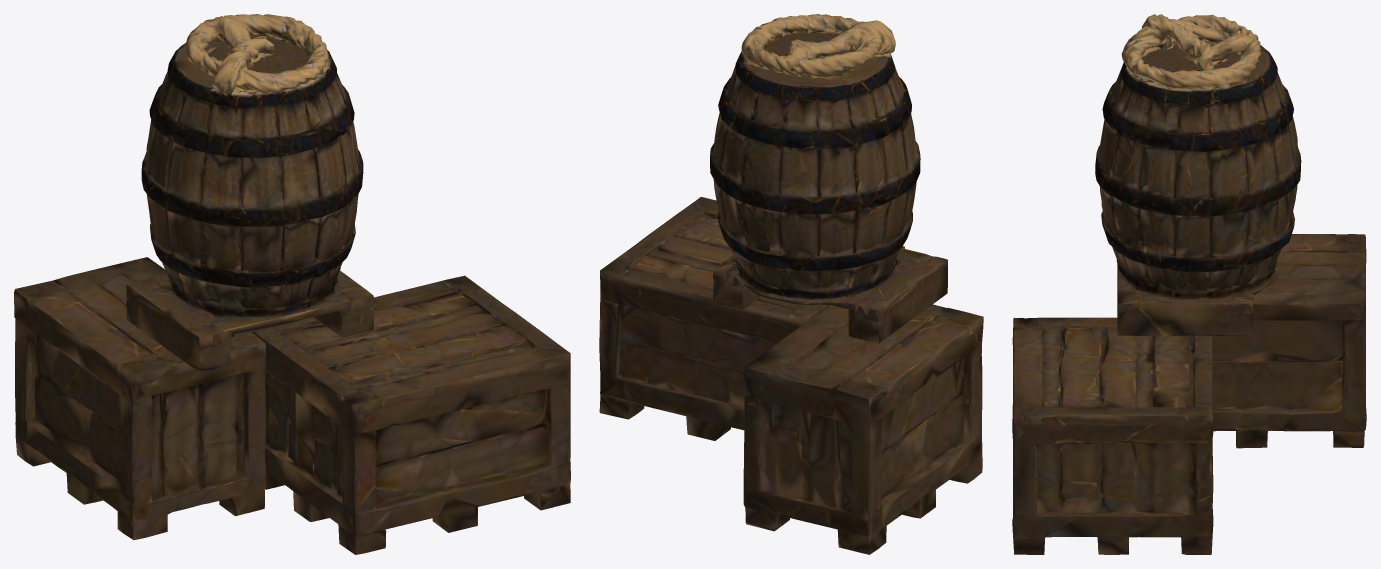
Rendered from crates.glb.
The picture shows the model from 3 angles, left to right: view 1: azimuth 30°, elevation 25°; view 2: azimuth 150°, elevation 25°; view 3: azimuth 270°, elevation 25°; orthographic projection. The views are drawn at different scales.
Bounding box in the file's own units: 1.62 × 1.9 × 1.45.
Materials: 1 (1 with a texture image).
